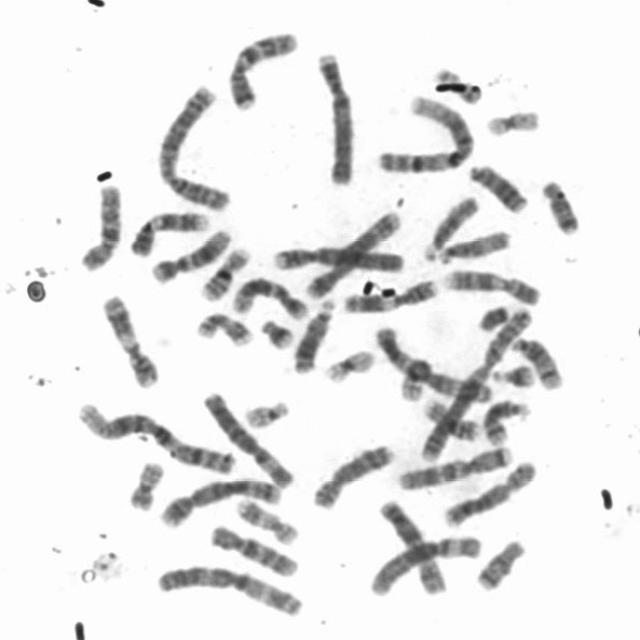A1: (72, 396, 240, 477), (370, 90, 477, 175)
A2: (414, 298, 536, 464), (151, 79, 234, 213)
A3: (369, 320, 494, 404), (150, 557, 307, 620)
B4: (311, 46, 359, 186), (269, 239, 408, 273)
B5: (300, 204, 405, 300), (155, 472, 286, 529)
C10: (204, 518, 301, 580), (74, 178, 125, 274)
C11: (96, 288, 162, 390), (338, 272, 441, 315)
C12: (146, 222, 234, 284), (227, 271, 310, 321)
C6: (197, 385, 299, 489), (364, 528, 486, 598)
C7: (224, 24, 302, 111), (393, 440, 517, 492)
C8: (439, 454, 541, 528), (308, 438, 397, 510)
C9: (125, 205, 213, 258), (438, 263, 544, 307)
D13: (289, 292, 338, 376), (463, 157, 530, 215)
D14: (505, 331, 565, 391), (479, 394, 534, 447)
D15: (419, 190, 482, 262), (429, 223, 514, 265)
E16: (195, 240, 254, 303), (417, 391, 482, 442)
E17: (230, 492, 301, 546), (191, 306, 257, 348)
E18: (472, 533, 528, 592), (536, 173, 584, 237)
F19: (319, 343, 378, 385), (480, 103, 544, 138)
F20: (428, 62, 486, 106), (123, 455, 167, 512)
G21: (255, 313, 298, 351), (487, 357, 537, 389)
G22: (238, 394, 294, 429), (395, 353, 433, 402)
X: (372, 492, 450, 599)
Y: (472, 299, 512, 333)
